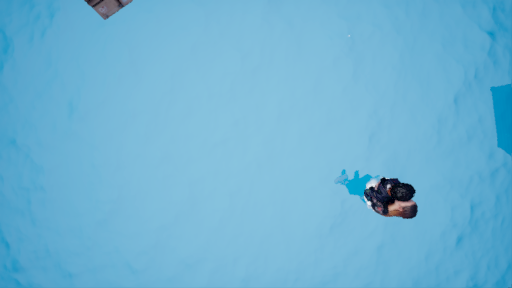person: (346, 173, 418, 219)
